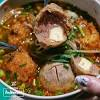bakso: (6, 5, 98, 93)
